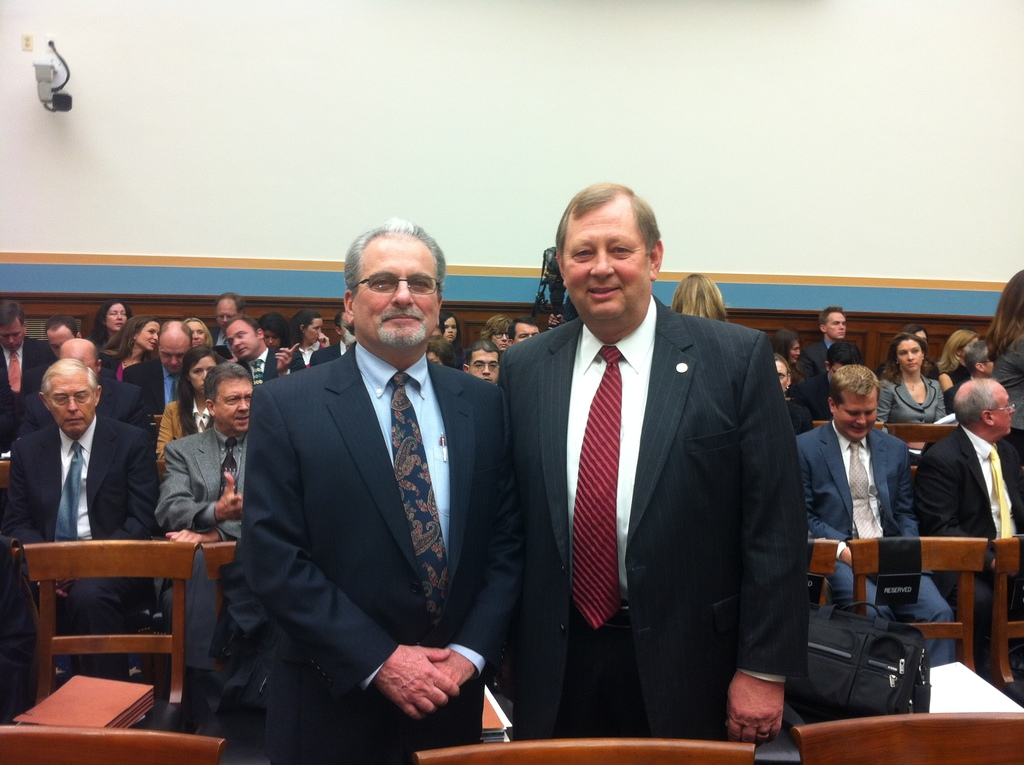Person: (0, 182, 1024, 764)
